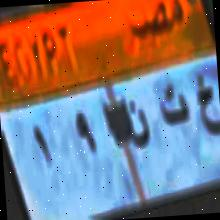1: (30, 118, 54, 180)
9: (74, 104, 98, 162)
khaa: (190, 67, 220, 144)
noon: (125, 92, 153, 162)
taa: (156, 78, 192, 135)
